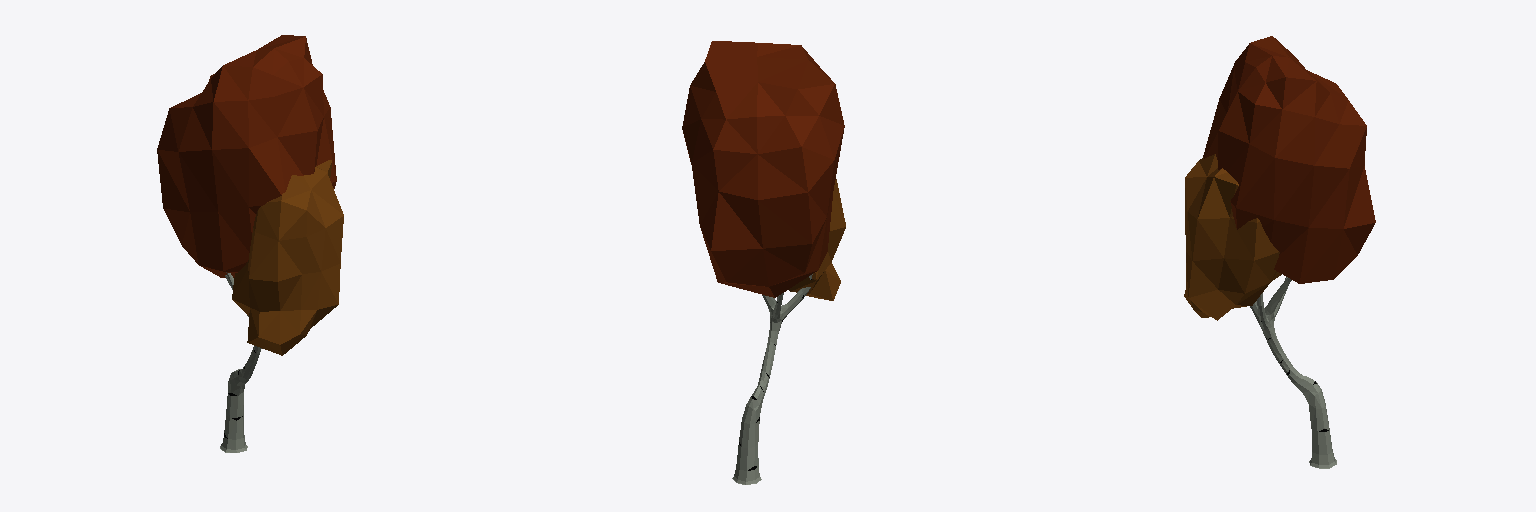
The model's file is BirchTree_Autumn_2_Cube.obj.
3 renders of one model, left to right at view 1: azimuth 30°, elevation 25°; view 2: azimuth 150°, elevation 25°; view 3: azimuth 270°, elevation 25°, orthographic.
Parts seen in each view (by area): view 1: BirchTree_Autumn_2_Cube.083; view 2: BirchTree_Autumn_2_Cube.083; view 3: BirchTree_Autumn_2_Cube.083.
Part boxes in pixels (left/top/right/bottom): BirchTree_Autumn_2_Cube.083: left=157, top=35, right=343, bottom=452; BirchTree_Autumn_2_Cube.083: left=682, top=41, right=845, bottom=484; BirchTree_Autumn_2_Cube.083: left=1184, top=36, right=1375, bottom=468.
Size of the model in its own units: 1.47 by 4.03 by 1.69.